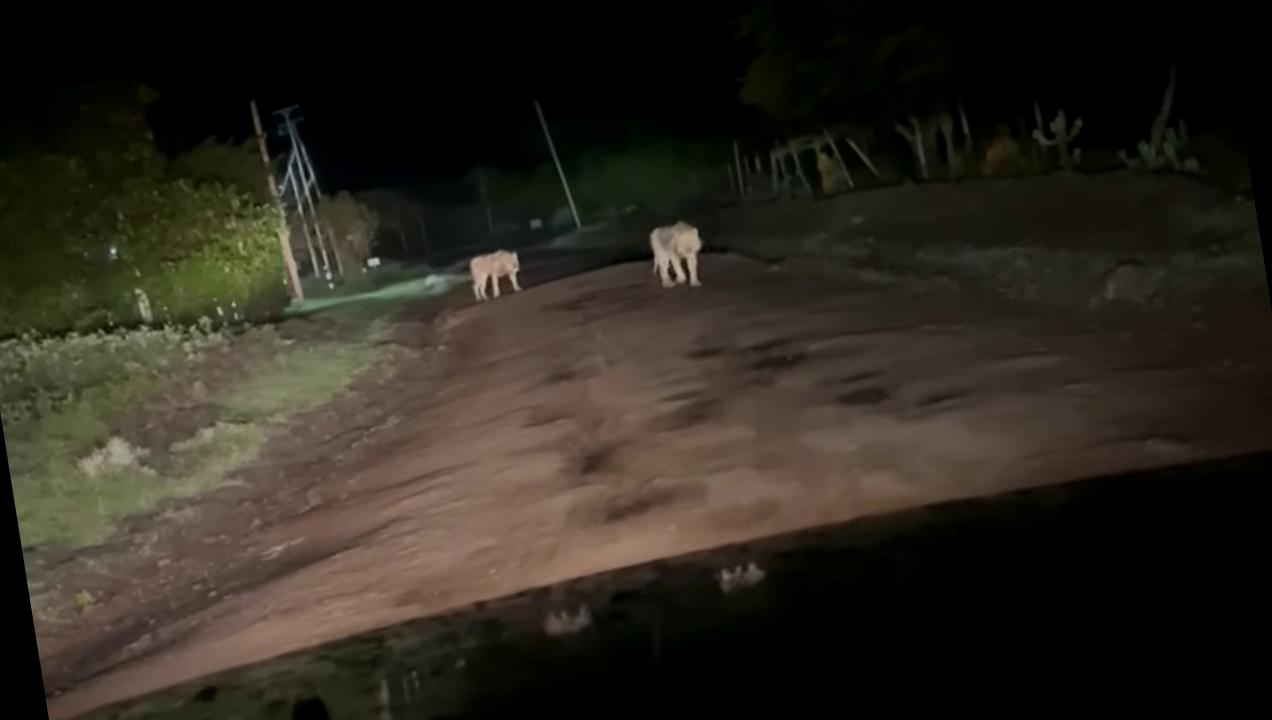lions: (460, 229, 538, 335), (626, 205, 712, 300)
